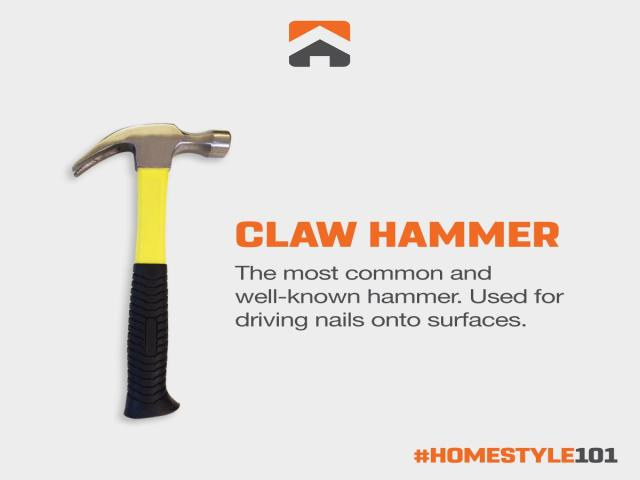Hammer: (72, 124, 231, 418)
